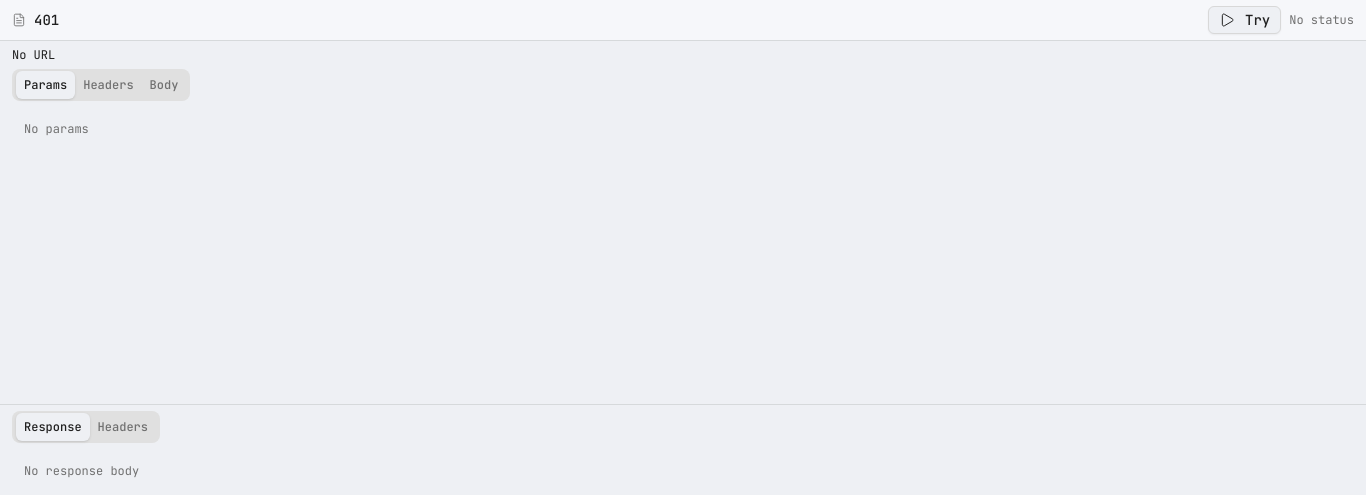
it: ExampleTabView › missing_parts_do_not_crash
Expected: the text "No params" is shown, left=24, top=121, right=89, bottom=137
Click the tab "Headers" below "No URL" at [108, 85], box left=75, top=71, right=142, bottom=99
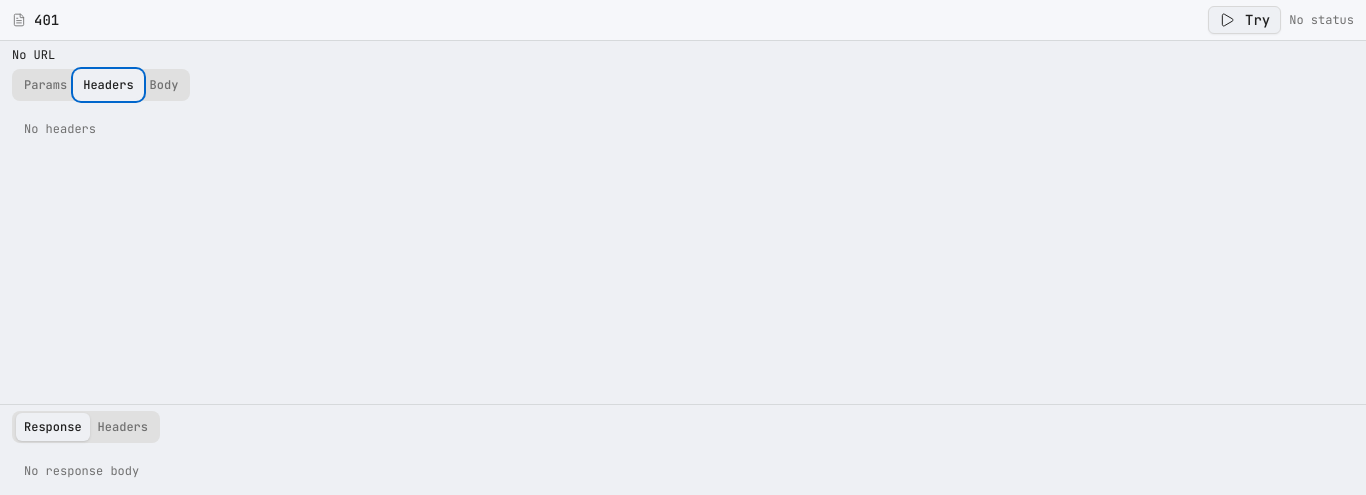
Expected: the text "No headers" is shown, left=24, top=121, right=96, bottom=137
Click the tab "Body" at [164, 85], box left=142, top=71, right=186, bottom=99
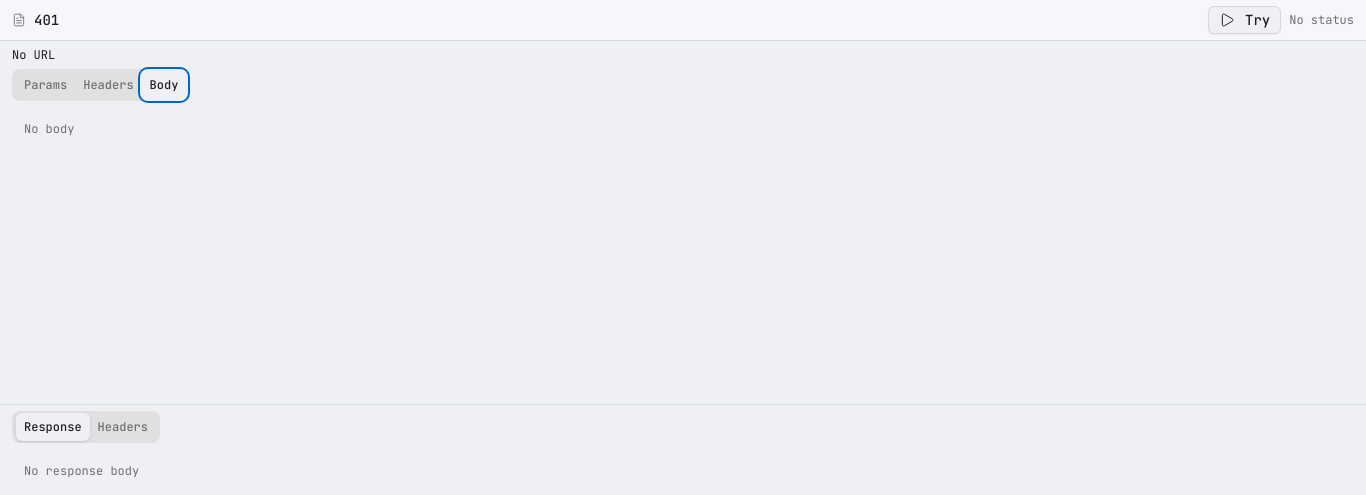
Expected: the text "No response body" is shown, left=24, top=462, right=139, bottom=478
Expected: the text "No body" is shown, left=24, top=121, right=74, bottom=137
Click the 2nd tab "Headers" at [123, 426], box left=90, top=412, right=156, bottom=440
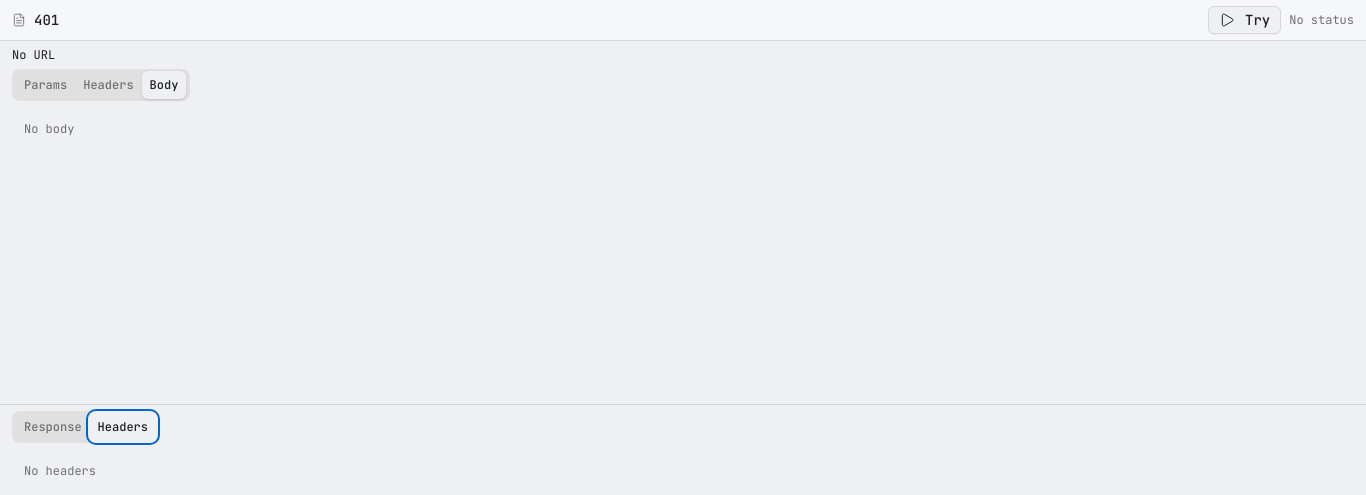
Expected: the text "No status" is shown, left=1289, top=12, right=1354, bottom=28
Expected: the text "No headers" is shown, left=24, top=462, right=96, bottom=478
